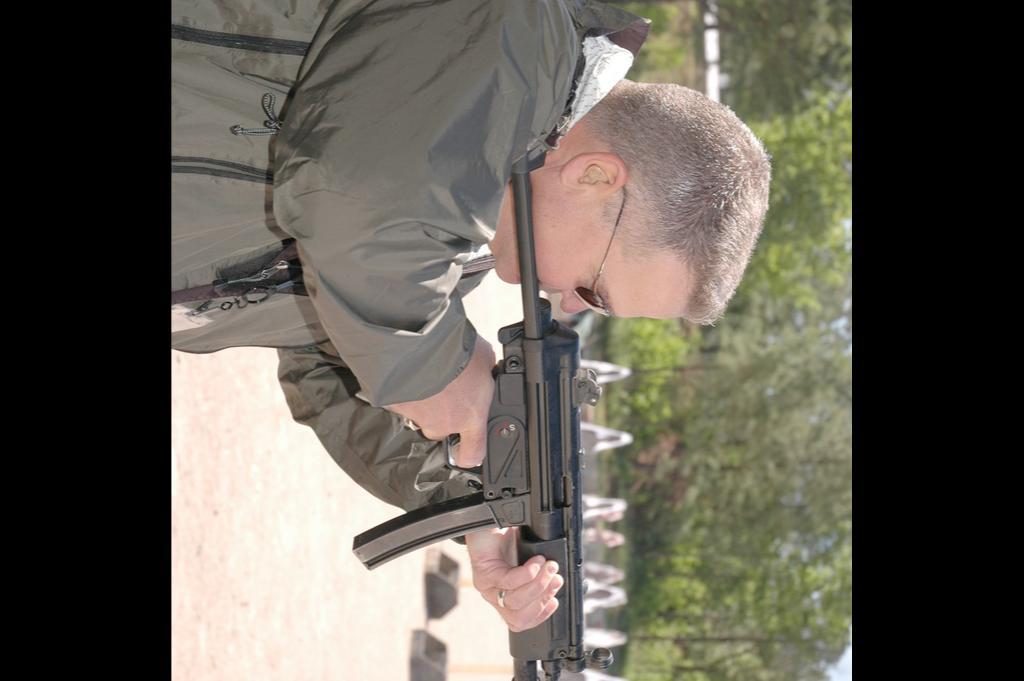gun: (354, 142, 600, 681)
